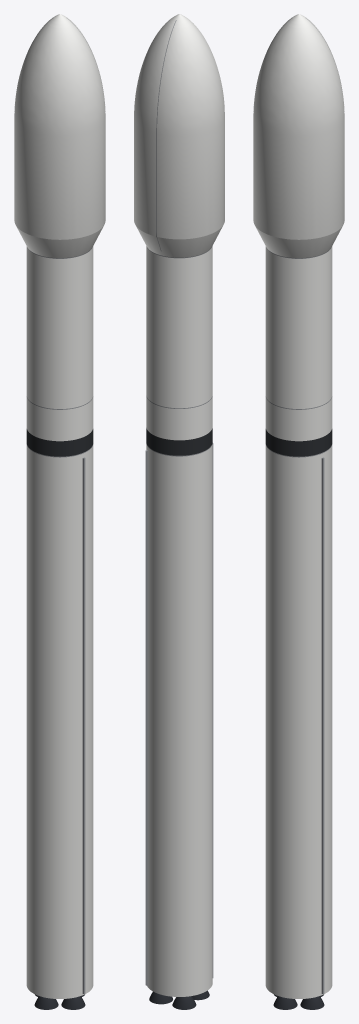
3 views of the same model, side by side, from view 1: azimuth 90°, elevation 25°; view 2: azimuth 150°, elevation 25°; view 3: azimuth 270°, elevation 25° (orthographic).
Parts seen in each view (by area): view 1: lm12; view 2: lm12; view 3: lm12.
Boxes of the visible parts, box(x1,y1,x2,y2) form: lm12: box(14, 14, 105, 1009); lm12: box(134, 14, 224, 1009); lm12: box(253, 14, 344, 1009).
Size of the model in its own units: 5.2 by 62 by 5.21.
1 material, 1 textured.
